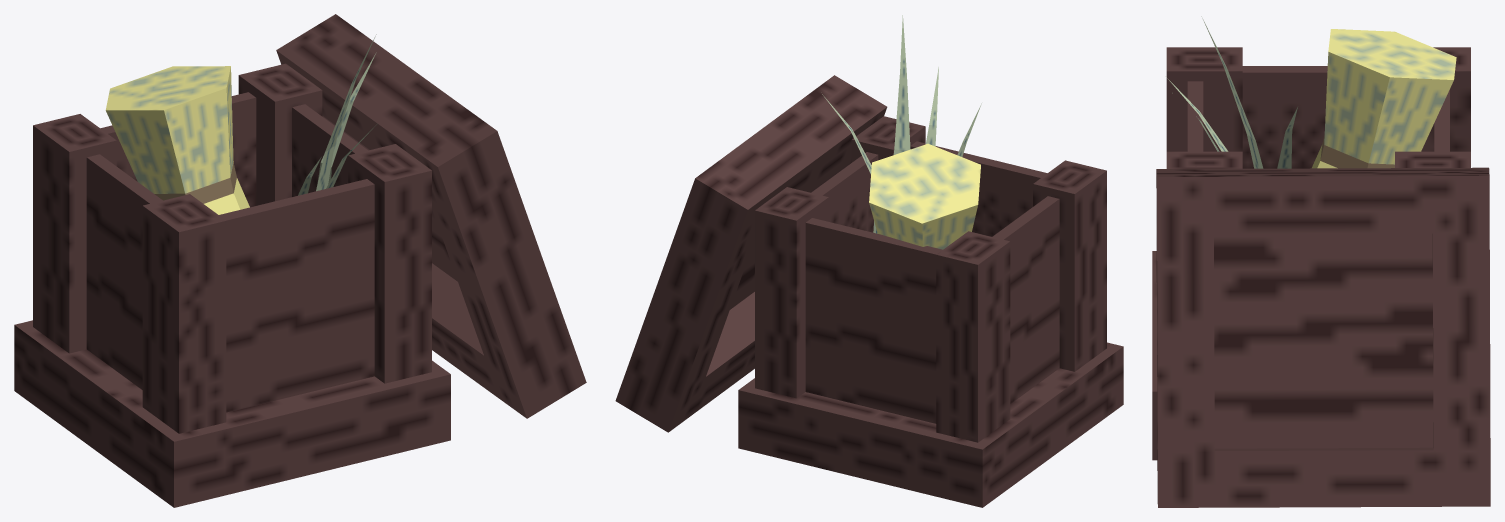
File: RefillStation.fbx
3 renders of one model, left to right at view 1: azimuth 30°, elevation 25°; view 2: azimuth 150°, elevation 25°; view 3: azimuth 270°, elevation 25°, orthographic. The views are drawn at different scales.
Parts seen in each view (by area): view 1: RefillStation; view 2: RefillStation; view 3: RefillStation.
Boxes of the visible parts, bbox=[...] form: RefillStation: bbox=[14, 14, 586, 507]; RefillStation: bbox=[615, 15, 1123, 507]; RefillStation: bbox=[1152, 16, 1490, 507].
Bounding box in the file's own units: 0.5408 × 0.3668 × 0.5035.
1 material, 1 textured.
